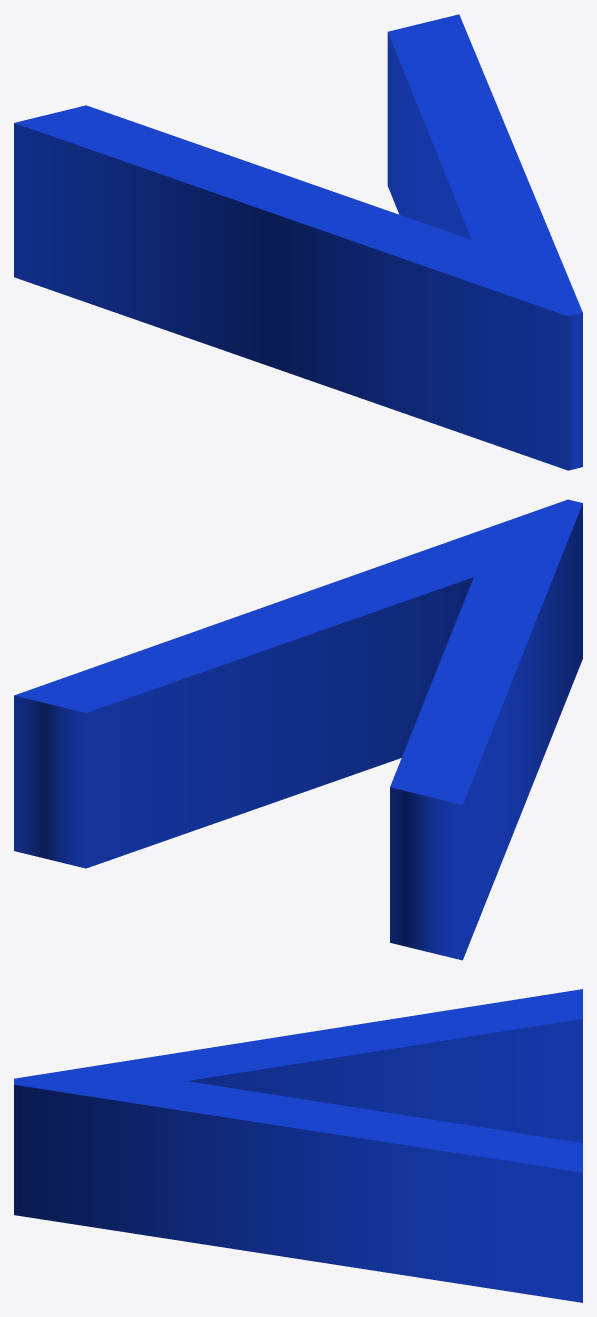
The model's file is quinto_varo_incipiente.gltf.
3 renders of one model, top to bottom at view 1: azimuth 30°, elevation 25°; view 2: azimuth 150°, elevation 25°; view 3: azimuth 270°, elevation 25°, orthographic. The views are drawn at different scales.
Parts seen in each view (by area): view 1: Texto; view 2: Texto; view 3: Texto.
Boxes of the visible parts, x1,y1,x2,y2 form: Texto: (14, 14, 582, 470); Texto: (14, 499, 582, 960); Texto: (14, 989, 582, 1302).
Bounding box in the file's own units: 1.21 × 0.4 × 1.58.
